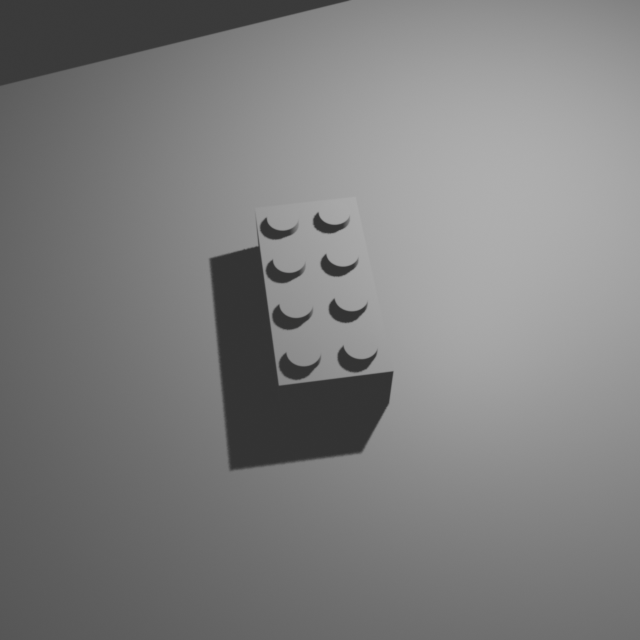lego_2x4: (254, 190, 395, 417)
